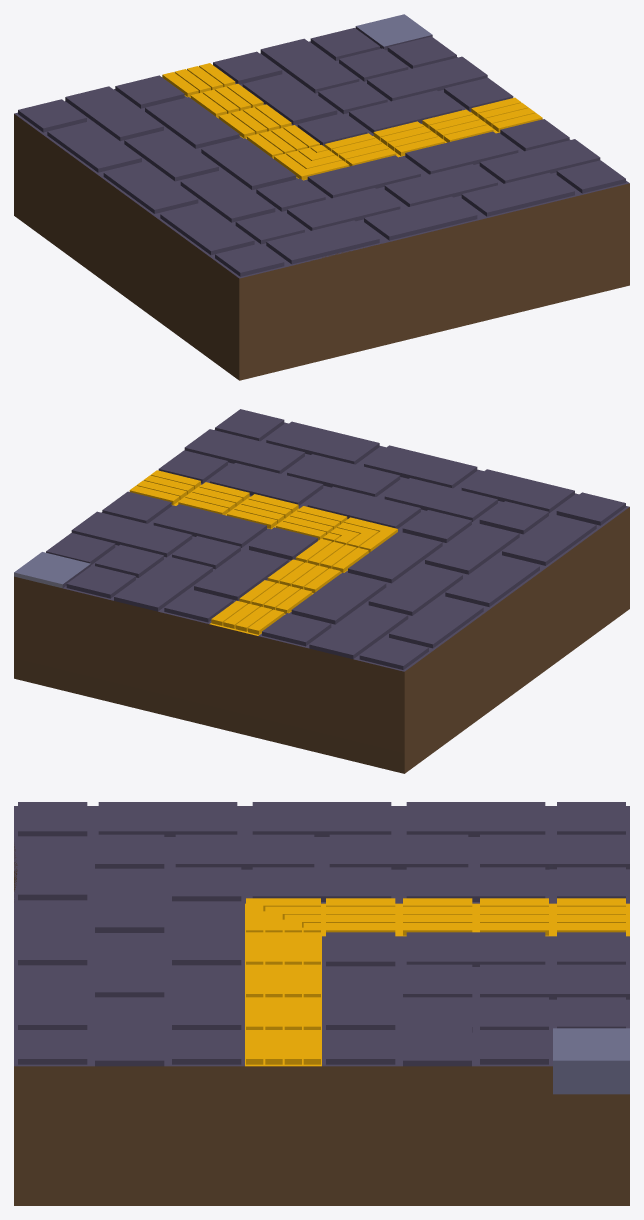
The model's file is trotoar_left_corner.fbx.
3 renders of one model, top to bottom at view 1: azimuth 30°, elevation 25°; view 2: azimuth 150°, elevation 25°; view 3: azimuth 270°, elevation 25°, orthographic. The views are drawn at different scales.
Parts seen in each view (by area): view 1: Cube.086; view 2: Cube.086; view 3: Cube.086.
Part boxes in pixels (left/top/right/bottom): Cube.086: left=14, top=14, right=629, bottom=380; Cube.086: left=14, top=409, right=629, bottom=773; Cube.086: left=14, top=802, right=629, bottom=1205.
Bounding box in the file's own units: 1000 × 260 × 1000.
Materials: 1 (1 with a texture image).
